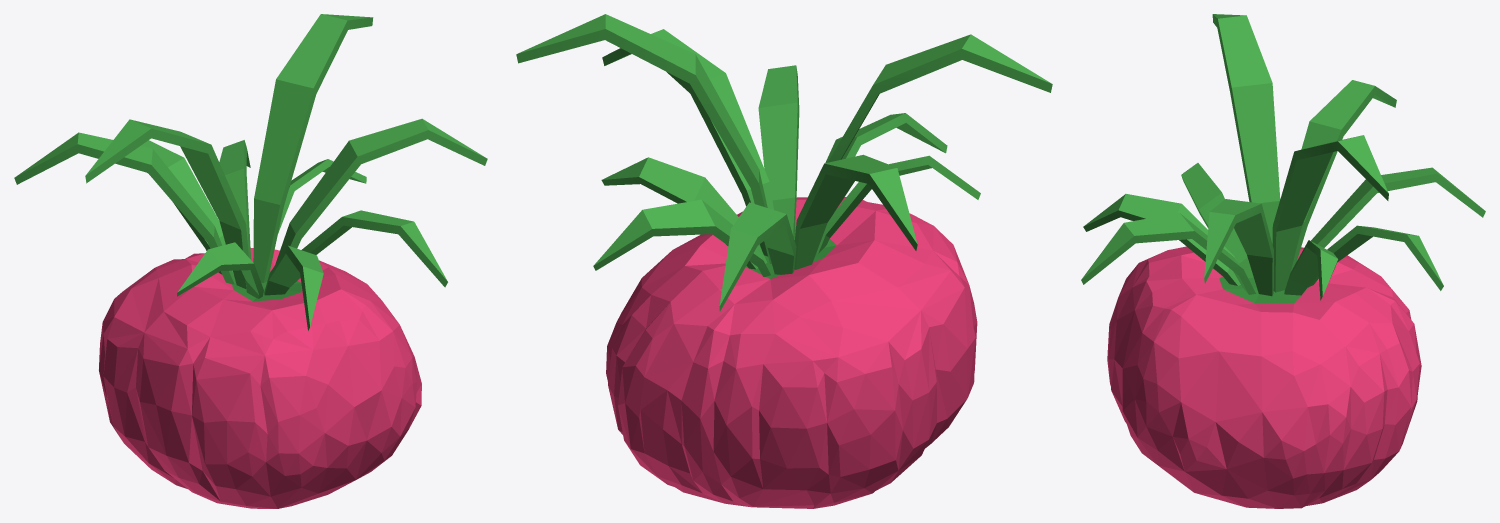
File: fantasy_plant_063.fbx
The picture shows the model from 3 angles, left to right: view 1: azimuth 30°, elevation 25°; view 2: azimuth 150°, elevation 25°; view 3: azimuth 270°, elevation 25°; orthographic projection. The views are drawn at different scales.
Visible parts, largest first — view 1: fantasy_plant.063; view 2: fantasy_plant.063; view 3: fantasy_plant.063.
Part boxes in pixels (left/top/right/bottom): fantasy_plant.063: left=14, top=14, right=487, bottom=508; fantasy_plant.063: left=516, top=14, right=1052, bottom=508; fantasy_plant.063: left=1081, top=14, right=1485, bottom=508.
Size of the model in its own units: 129 by 126 by 116.
Materials: 1 (1 with a texture image).
